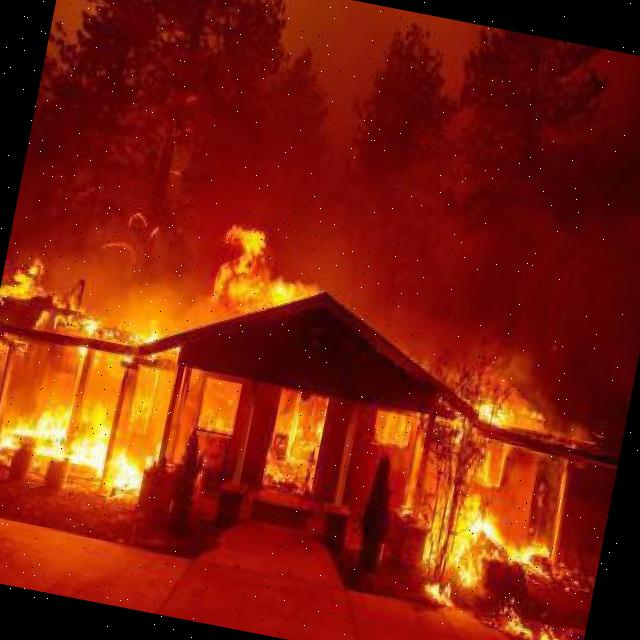fire: (0, 150, 640, 640)
